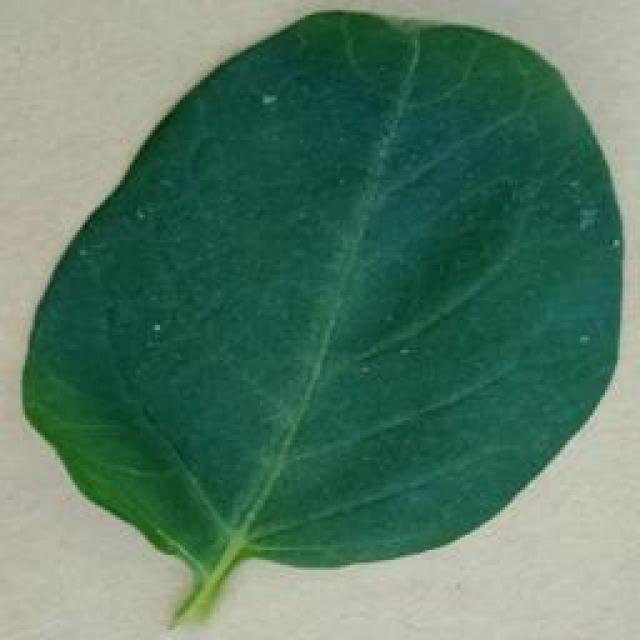Potato_Healthy: (23, 11, 616, 630)
